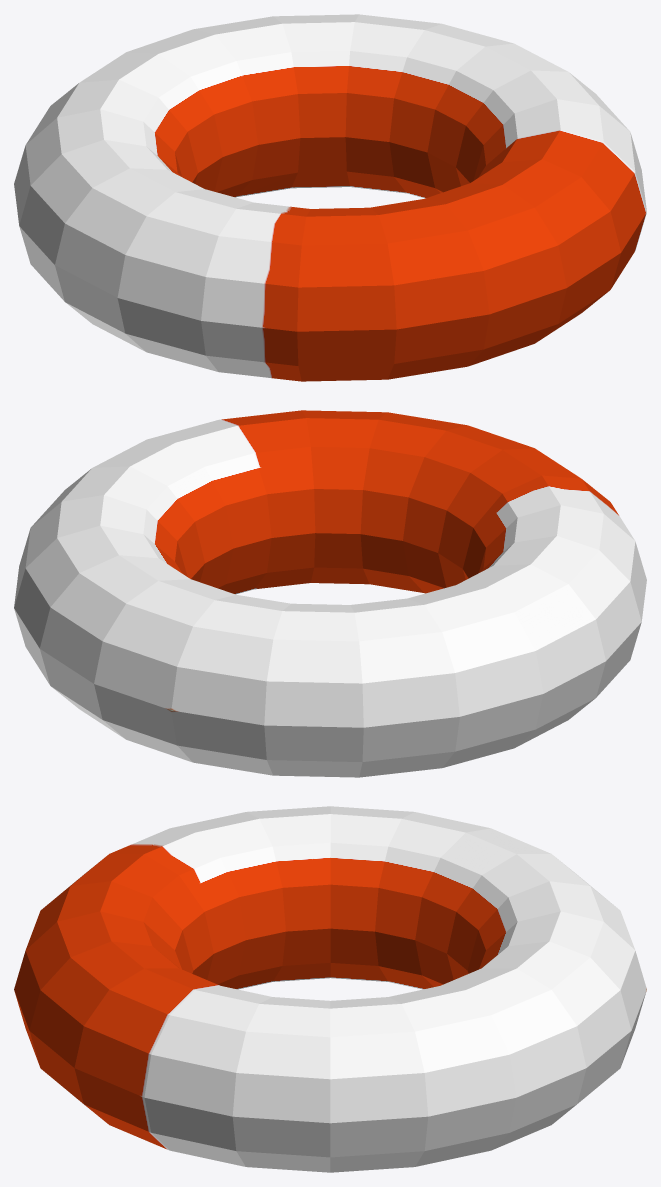
Rendered from safetyFloater.obj.
The picture shows the model from 3 angles, top to bottom: view 1: azimuth 30°, elevation 25°; view 2: azimuth 150°, elevation 25°; view 3: azimuth 270°, elevation 25°; orthographic projection.
Parts seen in each view (by area): view 1: Torus001_Torus001Mesh; view 2: Torus001_Torus001Mesh; view 3: Torus001_Torus001Mesh.
Part boxes in pixels (box(x1,y1,x2,y2)): Torus001_Torus001Mesh: box(14, 14, 646, 381); Torus001_Torus001Mesh: box(14, 410, 646, 777); Torus001_Torus001Mesh: box(14, 806, 646, 1172).
Size of the model in its own units: 2.26 by 0.6147 by 2.26.
